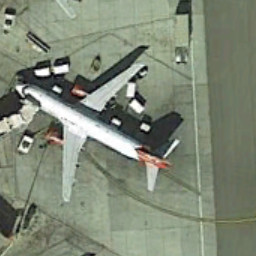Airplane: (11, 42, 184, 217)
